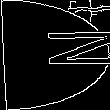N_W: (4, 34, 106, 76)
